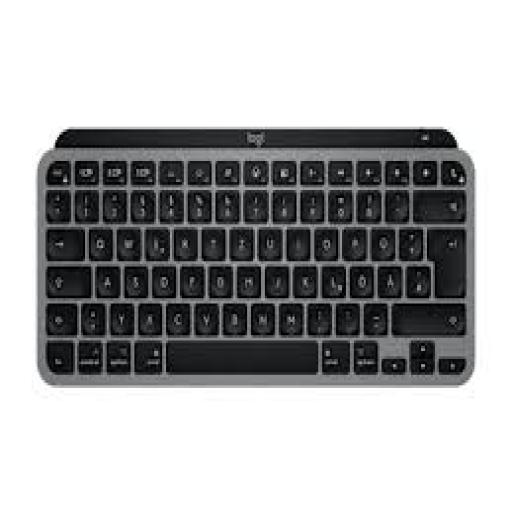keyboard: (36, 129, 472, 385)
